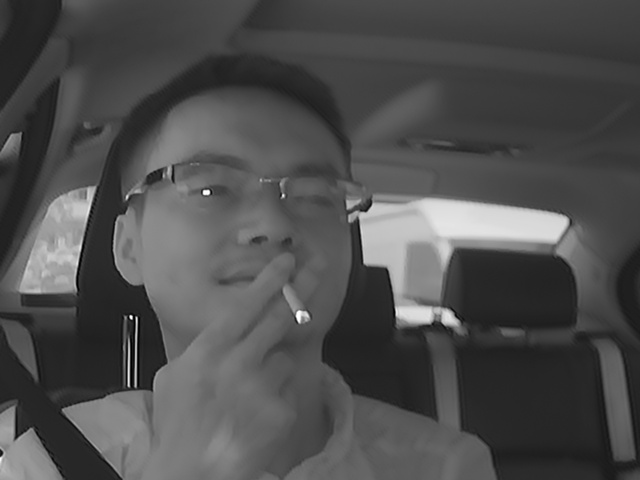hand: (186, 253, 331, 442)
